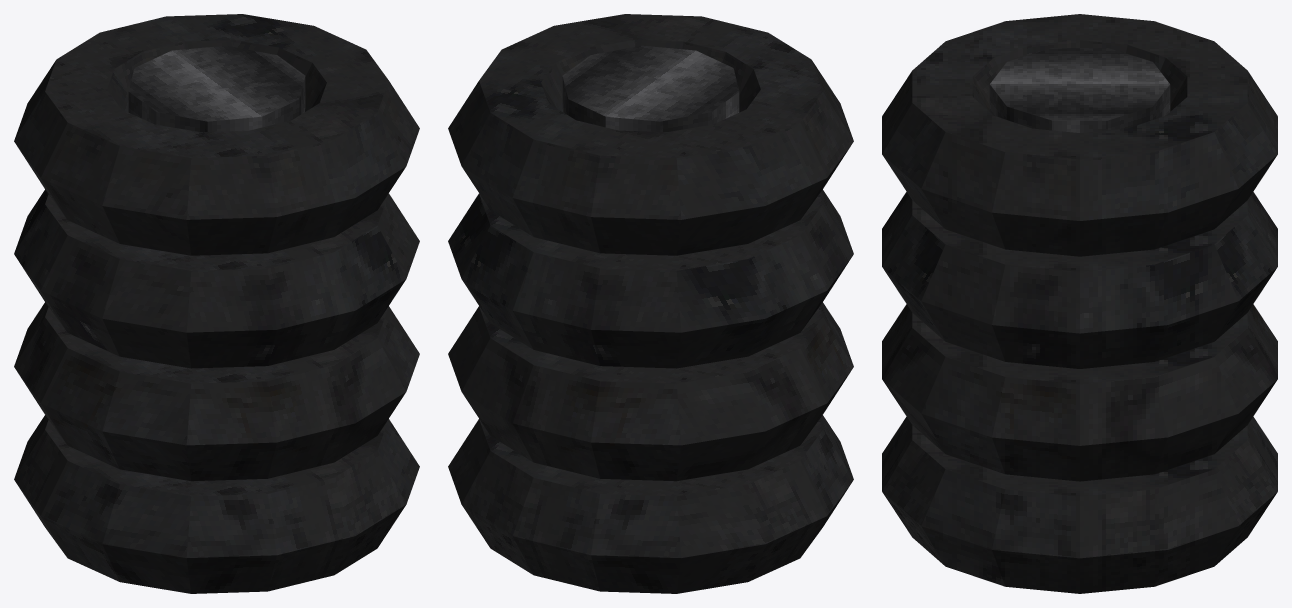
Rendered from tyre_stack.glb.
The picture shows the model from 3 angles, left to right: view 1: azimuth 30°, elevation 25°; view 2: azimuth 150°, elevation 25°; view 3: azimuth 270°, elevation 25°; orthographic projection.
Visible parts, largest first — view 1: tyre_stack; view 2: tyre_stack; view 3: tyre_stack.
Boxes of the visible parts, <box> form: tyre_stack: <box>14,14,419,593</box>; tyre_stack: <box>448,14,853,593</box>; tyre_stack: <box>882,14,1277,593</box>.
Size of the model in its own units: 0.72 by 0.86 by 0.7019.
Materials: 2 (2 with a texture image).
